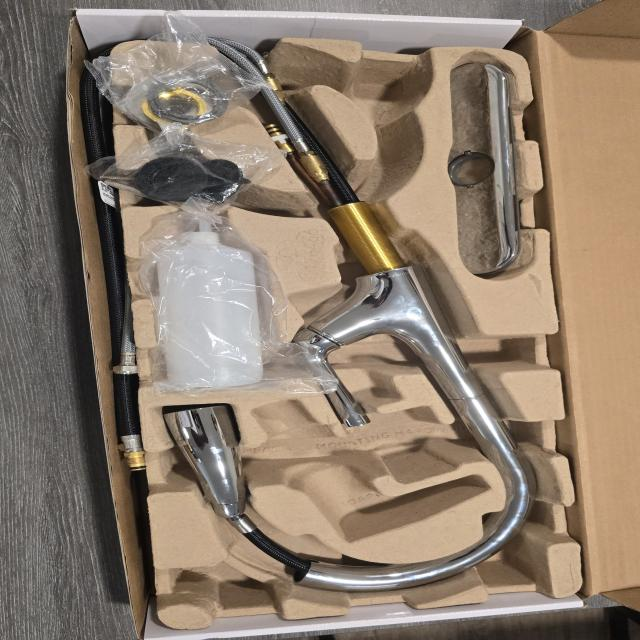1: (163, 46, 538, 595)
2m: (250, 399, 491, 542)
3: (151, 209, 261, 388)
4: (444, 63, 521, 275)
5m: (356, 72, 427, 120)
6: (79, 12, 271, 137)
7: (84, 123, 289, 222)
